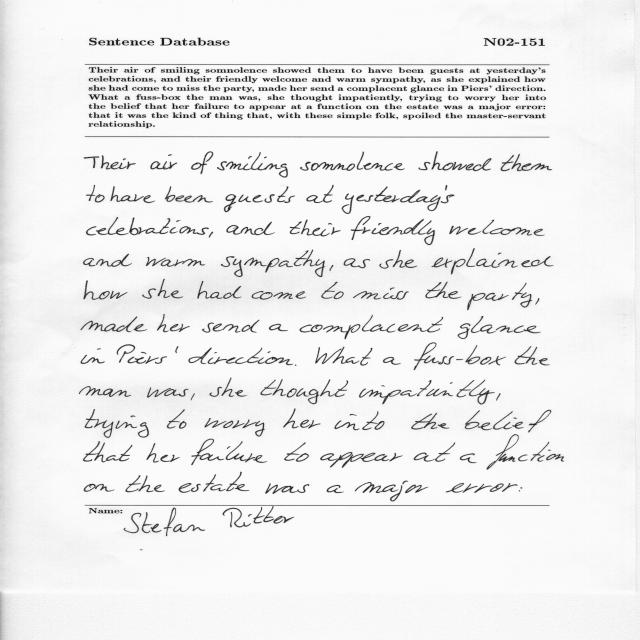word: (307, 185, 455, 214), (300, 315, 444, 339), (359, 380, 495, 405), (432, 249, 554, 275), (221, 250, 326, 277), (414, 343, 506, 370), (351, 216, 435, 245), (486, 439, 564, 470), (465, 410, 551, 438), (261, 379, 349, 404), (87, 217, 209, 235), (300, 152, 405, 171), (191, 439, 267, 465), (457, 316, 541, 339), (85, 409, 149, 438), (217, 152, 288, 178), (188, 348, 293, 365), (467, 283, 532, 310), (355, 481, 429, 502), (449, 220, 545, 236), (179, 472, 249, 493), (419, 152, 492, 171), (320, 452, 403, 468), (117, 344, 178, 364), (204, 418, 265, 436), (316, 347, 373, 366), (81, 316, 147, 332), (84, 441, 133, 462), (335, 411, 385, 430), (224, 195, 275, 213), (501, 154, 552, 171), (290, 220, 341, 237), (84, 280, 127, 300), (142, 279, 183, 299), (165, 186, 213, 203), (198, 281, 242, 299), (414, 443, 455, 462), (110, 186, 155, 203), (283, 409, 321, 429), (202, 320, 259, 333), (84, 156, 136, 170), (353, 287, 409, 300), (379, 250, 417, 269), (210, 378, 248, 397), (446, 483, 518, 493), (83, 253, 132, 267), (146, 443, 180, 463), (125, 475, 165, 492), (515, 347, 550, 366), (411, 413, 450, 430), (226, 222, 275, 235), (426, 282, 462, 299), (157, 315, 190, 333), (146, 257, 205, 267), (79, 386, 131, 397), (284, 442, 309, 462), (191, 152, 213, 174), (265, 483, 309, 494), (147, 387, 189, 398), (252, 291, 306, 299), (150, 155, 177, 170), (321, 282, 344, 299), (81, 348, 105, 364), (167, 410, 186, 429), (87, 185, 105, 203), (277, 186, 295, 203), (344, 258, 370, 268), (84, 484, 114, 492), (460, 453, 477, 463), (383, 357, 401, 365), (326, 485, 344, 493), (269, 324, 288, 331), (496, 393, 501, 401), (209, 231, 213, 238), (536, 298, 540, 305), (191, 394, 195, 401), (330, 265, 334, 271), (519, 487, 522, 492), (295, 365, 296, 366)
